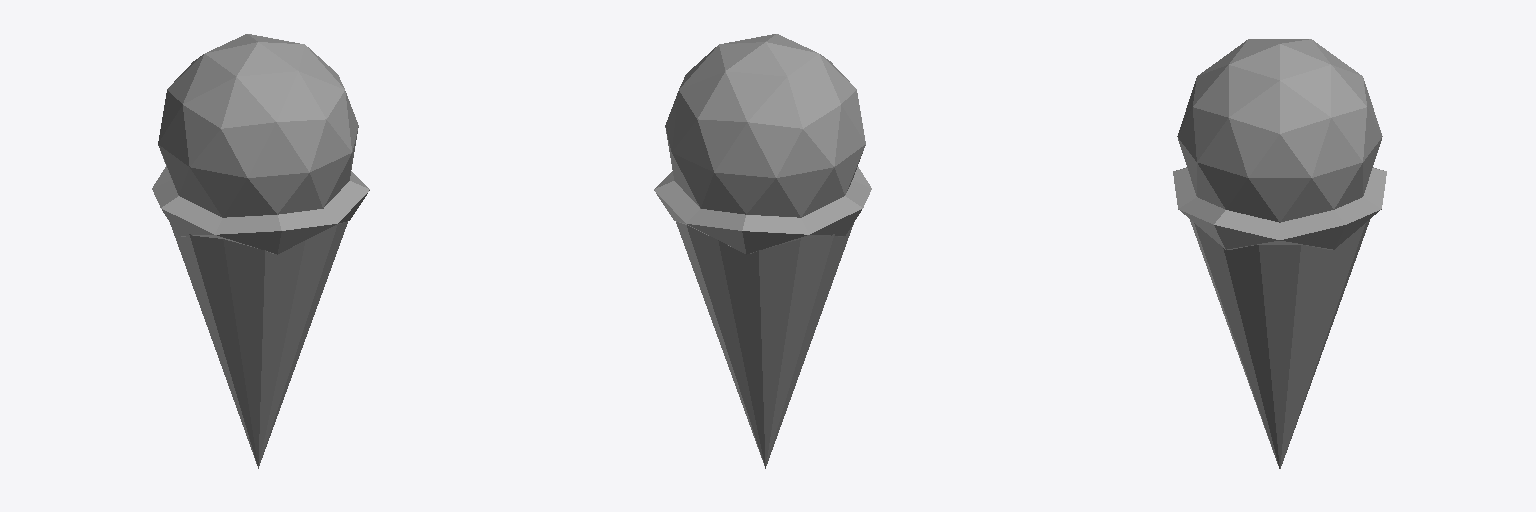
Rendered from Icecream2.obj.
3 renders of one model, left to right at view 1: azimuth 30°, elevation 25°; view 2: azimuth 150°, elevation 25°; view 3: azimuth 270°, elevation 25°, orthographic.
Parts seen in each view (by area): view 1: Icecream_Cone; view 2: Icecream_Cone; view 3: Icecream_Cone.
Boxes of the visible parts, x1=… form: Icecream_Cone: x1=152, y1=34, x2=369, y2=468; Icecream_Cone: x1=654, y1=34, x2=871, y2=468; Icecream_Cone: x1=1173, y1=39, x2=1386, y2=468.
Bounding box in the file's own units: 0.8542 × 1.83 × 0.8327.